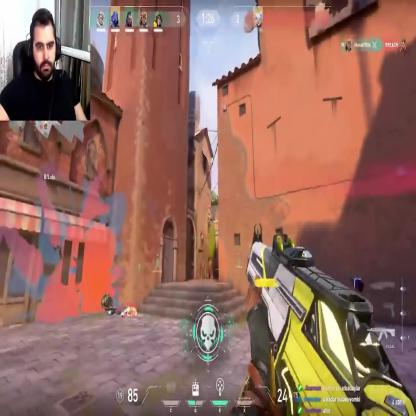enemy: (206, 211, 213, 234)
enemy_head: (208, 212, 211, 217)
